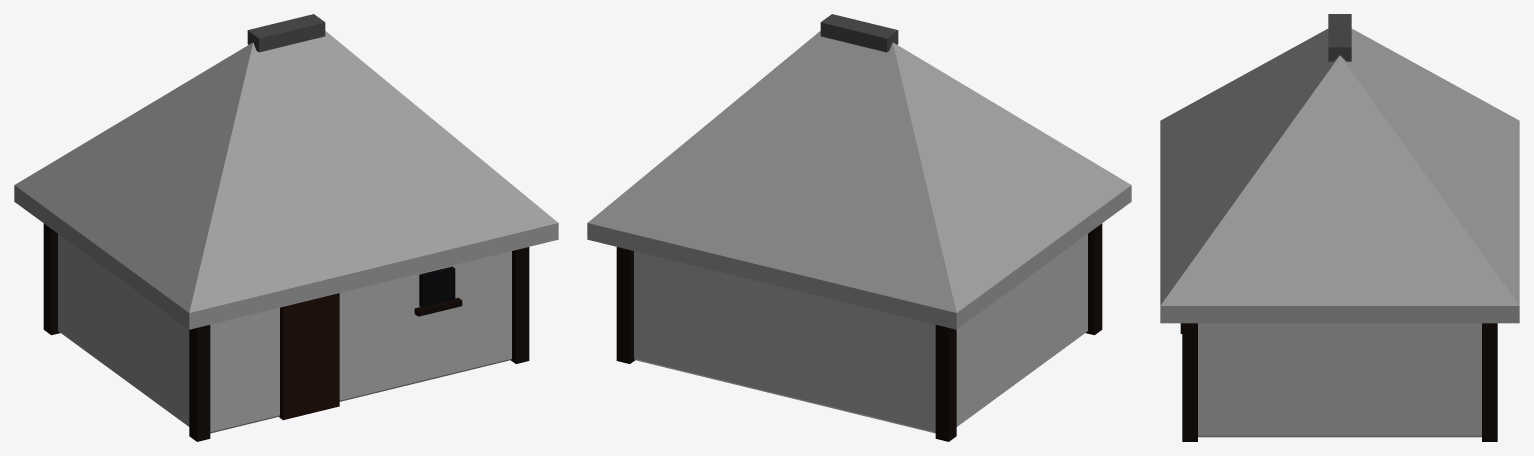
Rendered from home_small_h.fbx.
3 renders of one model, left to right at view 1: azimuth 30°, elevation 25°; view 2: azimuth 150°, elevation 25°; view 3: azimuth 270°, elevation 25°, orthographic. The views are drawn at different scales.
Visible parts, largest first — view 1: home_small_h; view 2: home_small_h; view 3: home_small_h.
Part boxes in pixels (left/top/right/bottom): home_small_h: left=14, top=14, right=558, bottom=441; home_small_h: left=587, top=14, right=1131, bottom=441; home_small_h: left=1160, top=14, right=1519, bottom=441.
Bounding box in the file's own units: 5.56 × 4.59 × 4.56.
